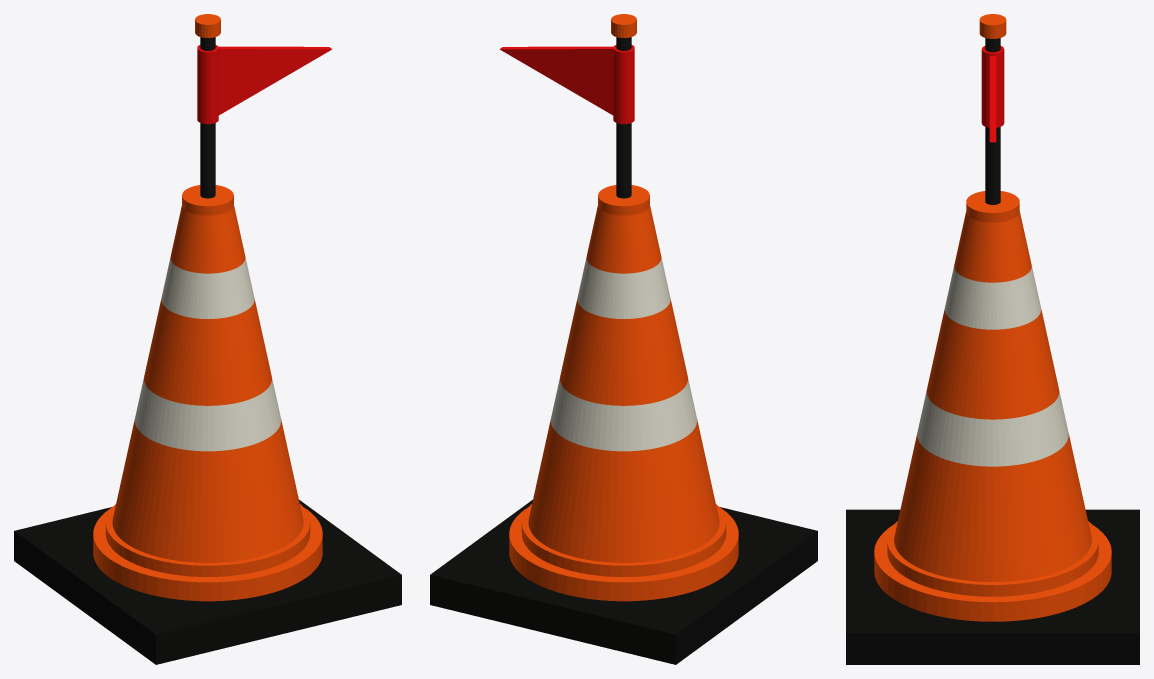
Rendered from trail_marker_cone_red_flag.obj.
The picture shows the model from 3 angles, left to right: view 1: azimuth 30°, elevation 25°; view 2: azimuth 150°, elevation 25°; view 3: azimuth 270°, elevation 25°; orthographic projection. The views are drawn at different scales.
Visible parts, largest first — view 1: trail_marker_cone_red_flag; view 2: trail_marker_cone_red_flag; view 3: trail_marker_cone_red_flag.
Part boxes in pixels (left/top/right/bottom): trail_marker_cone_red_flag: left=14, top=14, right=401, bottom=664; trail_marker_cone_red_flag: left=430, top=14, right=817, bottom=664; trail_marker_cone_red_flag: left=846, top=14, right=1139, bottom=664.
Size of the model in its own units: 0.68 by 1.49 by 0.68.
